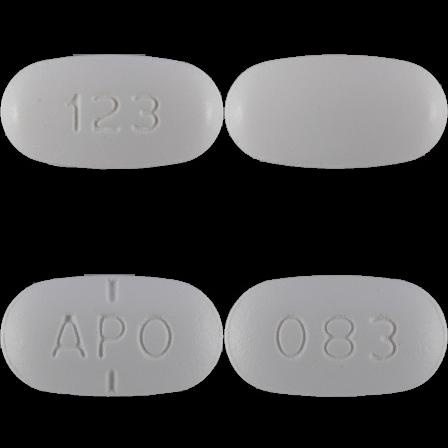10544-431: (0, 0, 224, 224)
